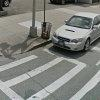cars: (52, 13, 98, 52)
